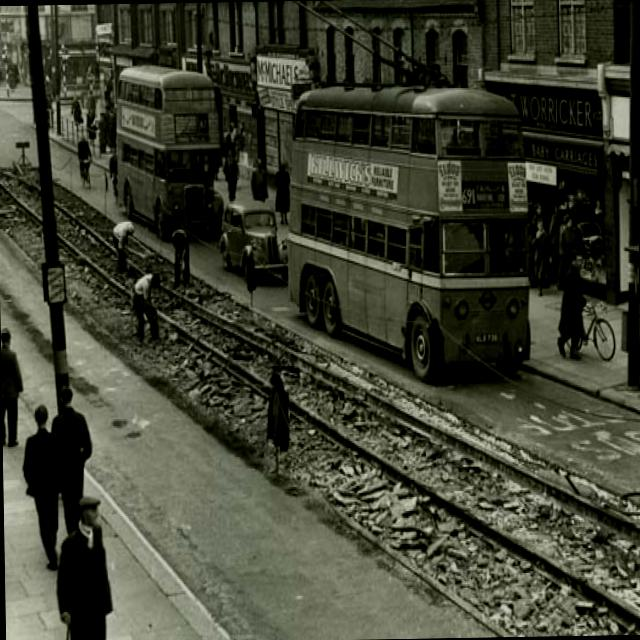Vehicle: (282, 80, 530, 386), (117, 67, 227, 244), (218, 198, 288, 283)
